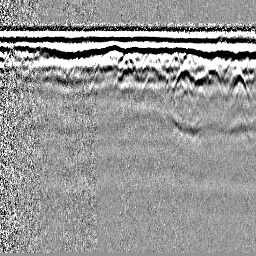cavity: (113, 50, 140, 86)
